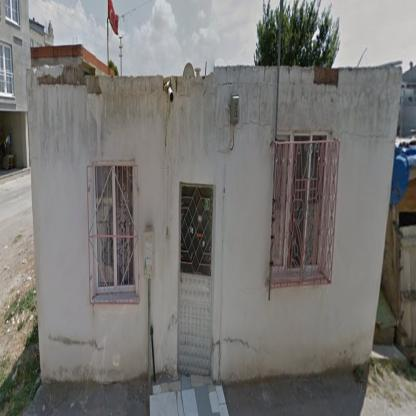door: (178, 186, 212, 375)
window: (273, 134, 326, 270), (93, 162, 134, 292), (0, 43, 13, 94), (5, 1, 19, 24)
